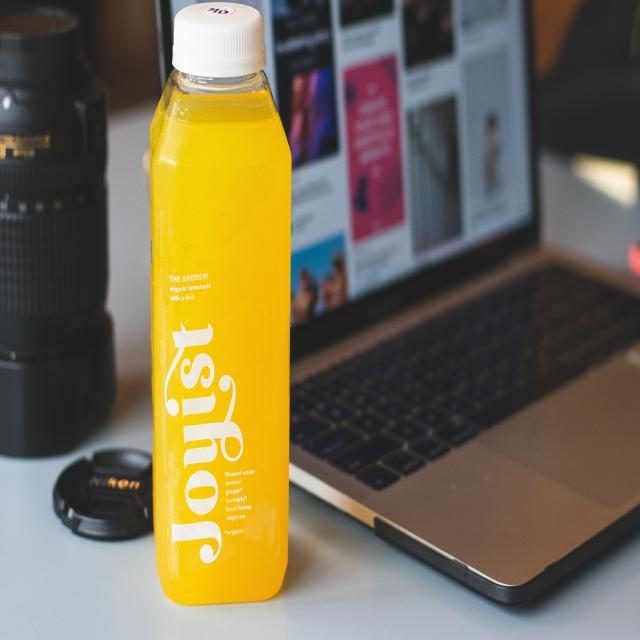plastic_bottle: (148, 1, 293, 606)
